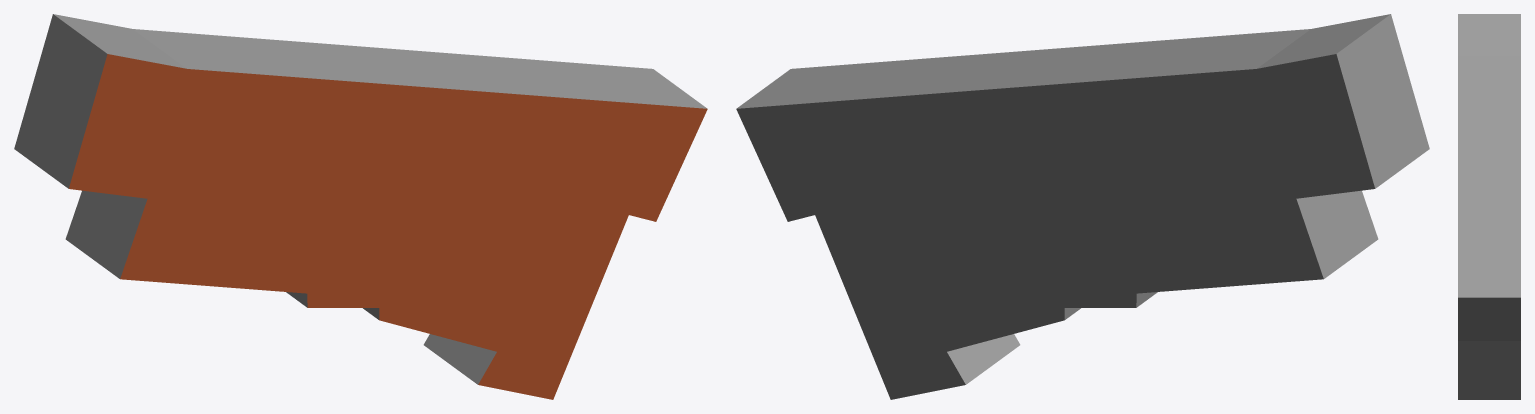
Rendered from construction_4416_assumed_A_Casa_h6m.obj.
3 renders of one model, left to right at view 1: azimuth 30°, elevation 25°; view 2: azimuth 150°, elevation 25°; view 3: azimuth 270°, elevation 25°, orthographic. The views are drawn at different scales.
Parts seen in each view (by area): view 1: construction_4416_assumed_A_Casa; view 2: construction_4416_assumed_A_Casa; view 3: construction_4416_assumed_A_Casa.
Boxes of the visible parts, box(x1,y1,x2,y2) form: construction_4416_assumed_A_Casa: box(14, 14, 707, 399); construction_4416_assumed_A_Casa: box(736, 14, 1429, 399); construction_4416_assumed_A_Casa: box(1458, 14, 1520, 399).
Size of the model in its own units: 40.56 by 27.58 by 6.
